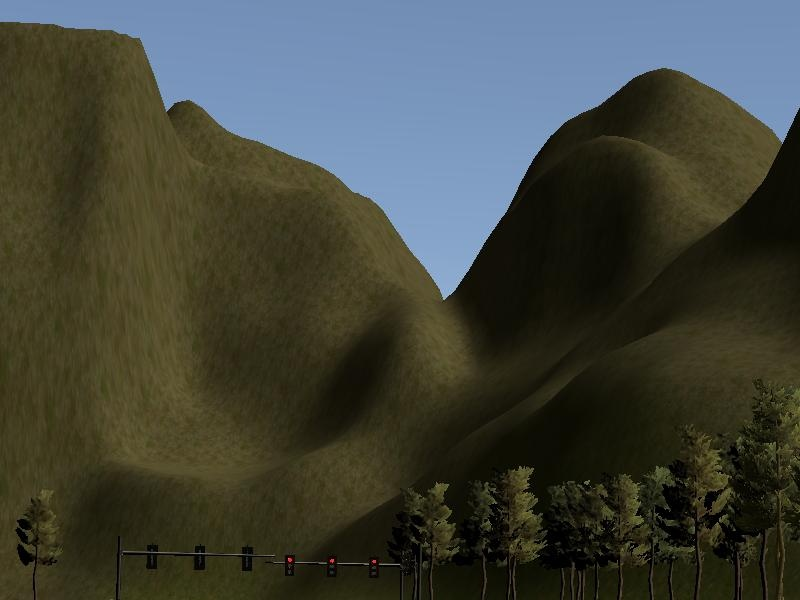red: (281, 549, 300, 585), (363, 552, 383, 582), (324, 552, 339, 588)
